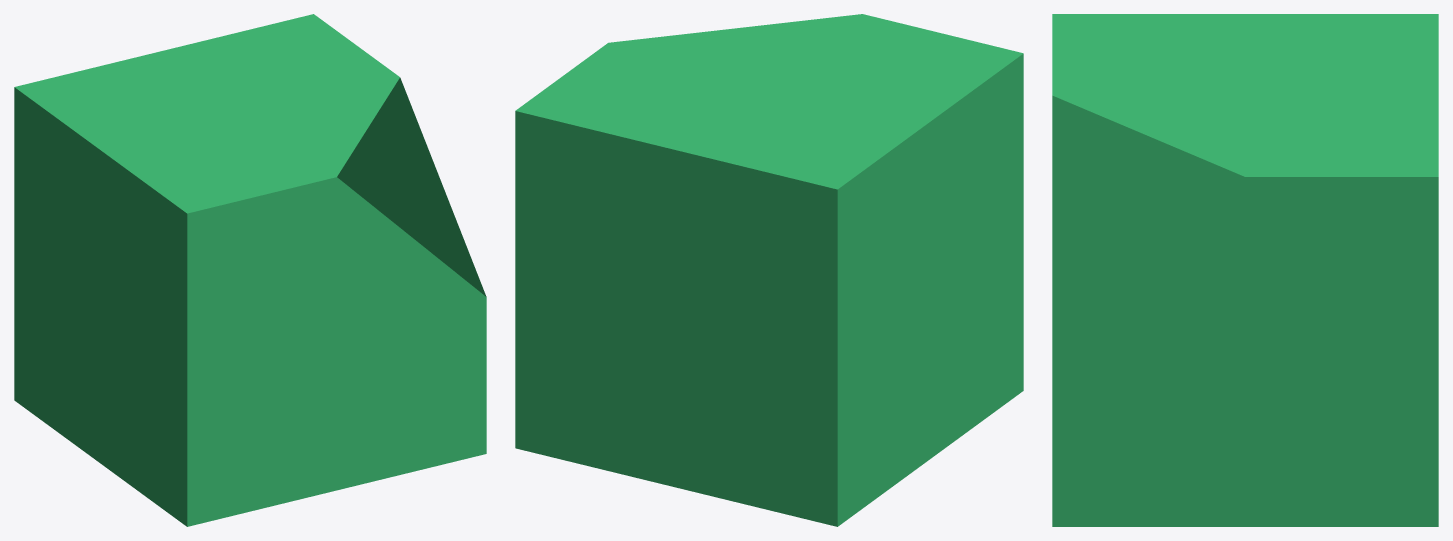
Rendered from r6c6_body_green.gltf.
3 renders of one model, left to right at view 1: azimuth 30°, elevation 25°; view 2: azimuth 150°, elevation 25°; view 3: azimuth 270°, elevation 25°, orthographic. The views are drawn at different scales.
Visible parts, largest first — view 1: r6c6_body_green; view 2: r6c6_body_green; view 3: r6c6_body_green.
Part boxes in pixels (bbox=[...]): r6c6_body_green: bbox=[14, 14, 486, 526]; r6c6_body_green: bbox=[515, 14, 1023, 526]; r6c6_body_green: bbox=[1052, 14, 1438, 526].
Size of the model in its own units: 2 by 2 by 2.
1 material, 1 textured.
